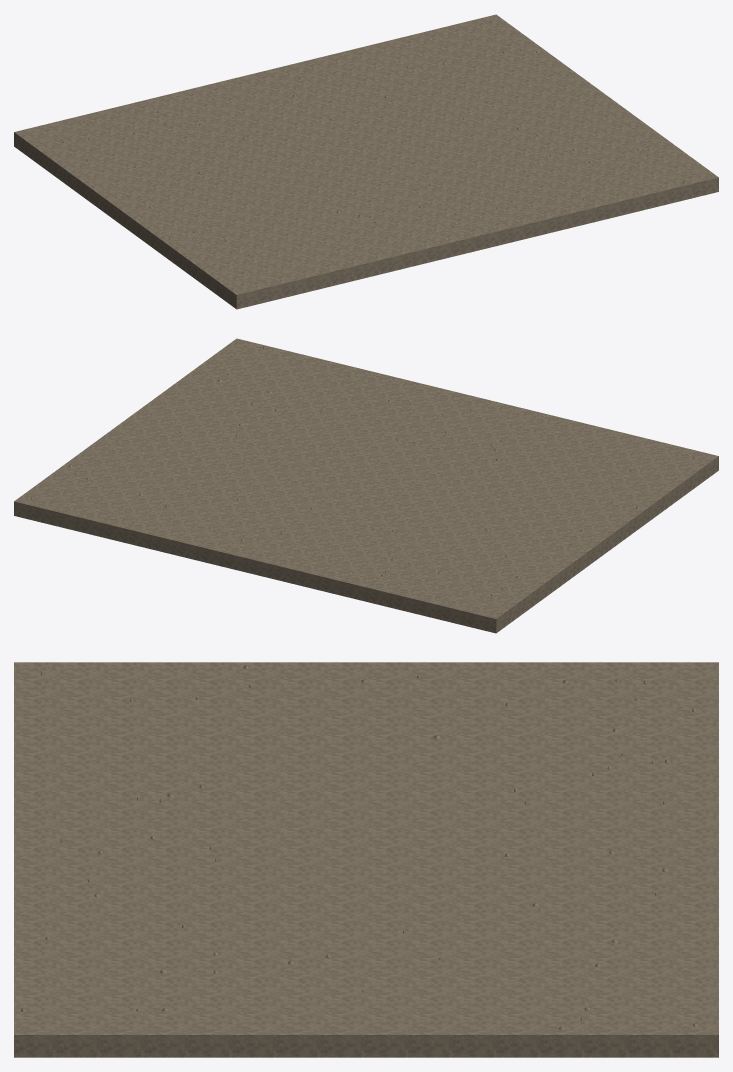
Rendered from SM_Substation_Gravel_LOD1.fbx.
3 views of the same model, one above another, from view 1: azimuth 30°, elevation 25°; view 2: azimuth 150°, elevation 25°; view 3: azimuth 270°, elevation 25° (orthographic). The views are drawn at different scales.
Parts seen in each view (by area): view 1: SM_Substation_Gravel_LOD1; view 2: SM_Substation_Gravel_LOD1; view 3: SM_Substation_Gravel_LOD1.
Part boxes in pixels (x1=…): SM_Substation_Gravel_LOD1: x1=14, y1=14, x2=718, y2=309; SM_Substation_Gravel_LOD1: x1=14, y1=338, x2=718, y2=633; SM_Substation_Gravel_LOD1: x1=14, y1=662, x2=718, y2=1057.
Size of the model in its own units: 20 by 16 by 0.63.
